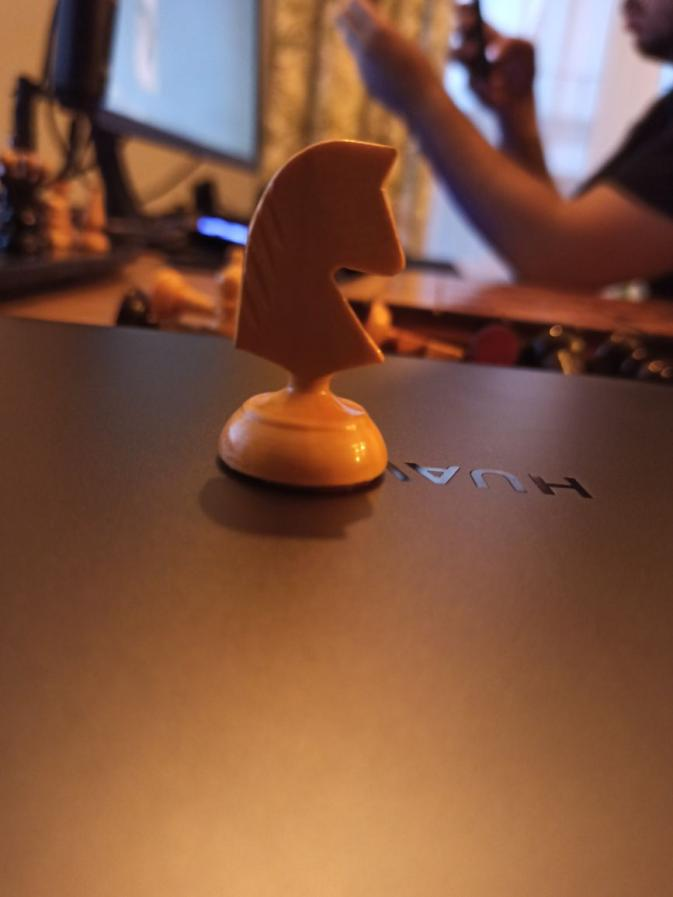wknight: (208, 137, 410, 493)
